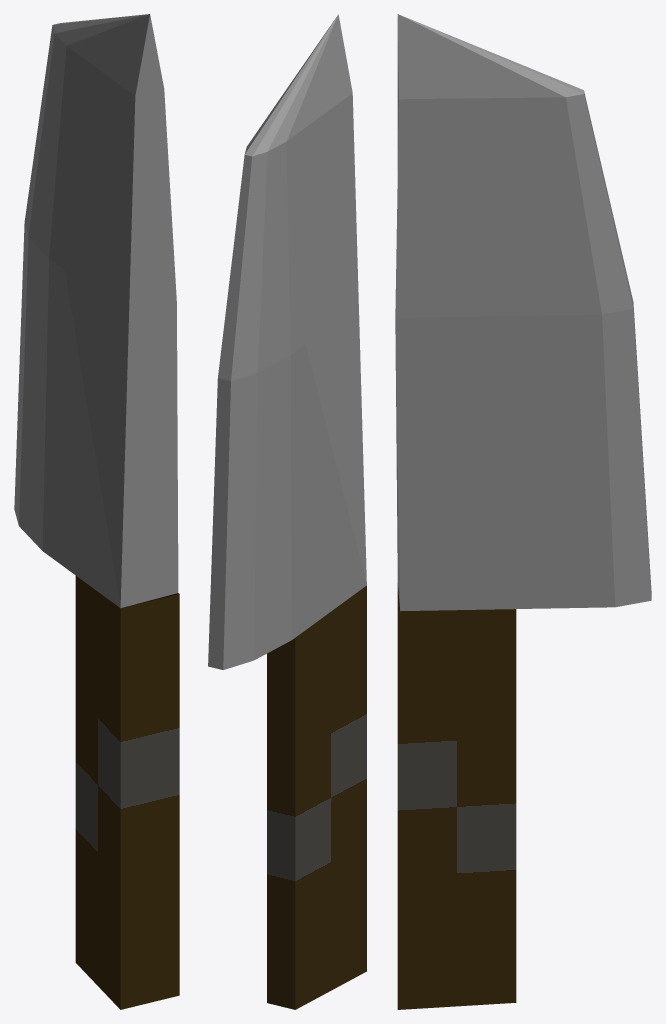
File: knife.gltf
3 renders of one model, left to right at view 1: azimuth 30°, elevation 25°; view 2: azimuth 150°, elevation 25°; view 3: azimuth 270°, elevation 25°, orthographic. The views are drawn at different scales.
Parts seen in each view (by area): view 1: blade, hilt; view 2: blade, hilt; view 3: blade, hilt.
Boxes of the visible parts, x1,y1,x2,y2 form: blade: (14,14,178,608); hilt: (75,576,179,1009); blade: (208,14,366,669); hilt: (267,585,366,1009); blade: (395,14,651,611); hilt: (397,583,516,1009).
Size of the model in its own units: 0.025 by 0.4 by 0.0946.
Materials: 1 (1 with a texture image).
